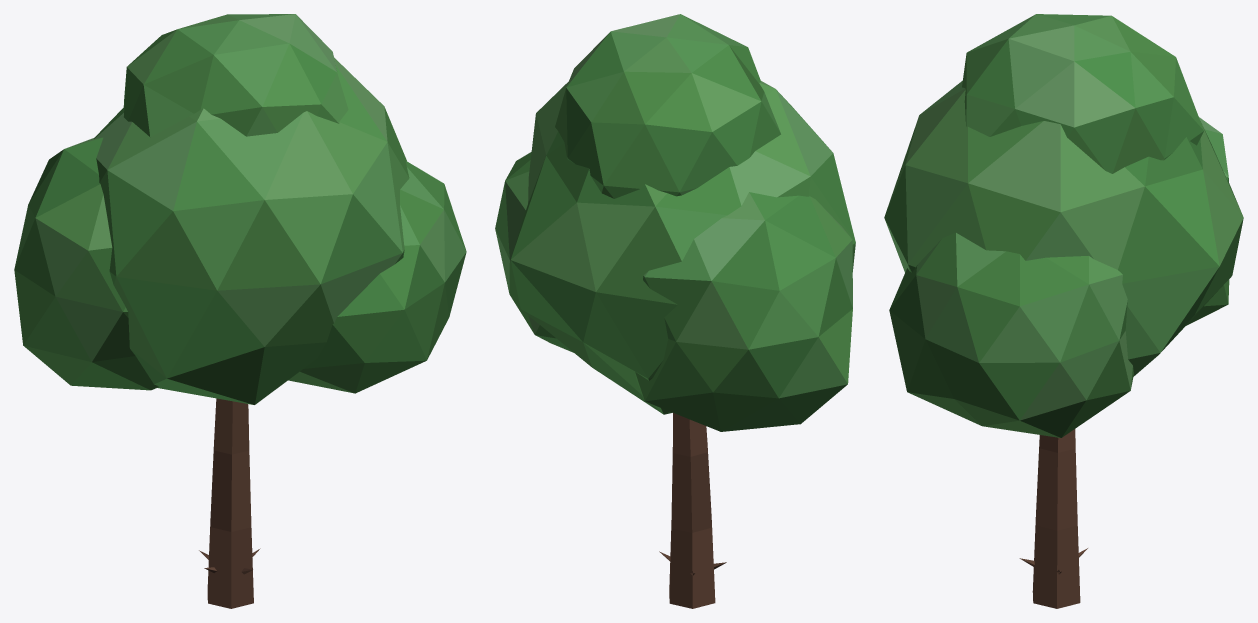
The model's file is Tree_Round_A.fbx.
3 renders of one model, left to right at view 1: azimuth 30°, elevation 25°; view 2: azimuth 150°, elevation 25°; view 3: azimuth 270°, elevation 25°, orthographic. The views are drawn at different scales.
Parts seen in each view (by area): view 1: Tree_Round_A; view 2: Tree_Round_A; view 3: Tree_Round_A.
Boxes of the visible parts, x1=… form: Tree_Round_A: x1=14, y1=14, x2=466, y2=608; Tree_Round_A: x1=495, y1=14, x2=855, y2=608; Tree_Round_A: x1=884, y1=14, x2=1243, y2=608.
Size of the model in its own units: 3.3 by 4.71 by 2.64.
